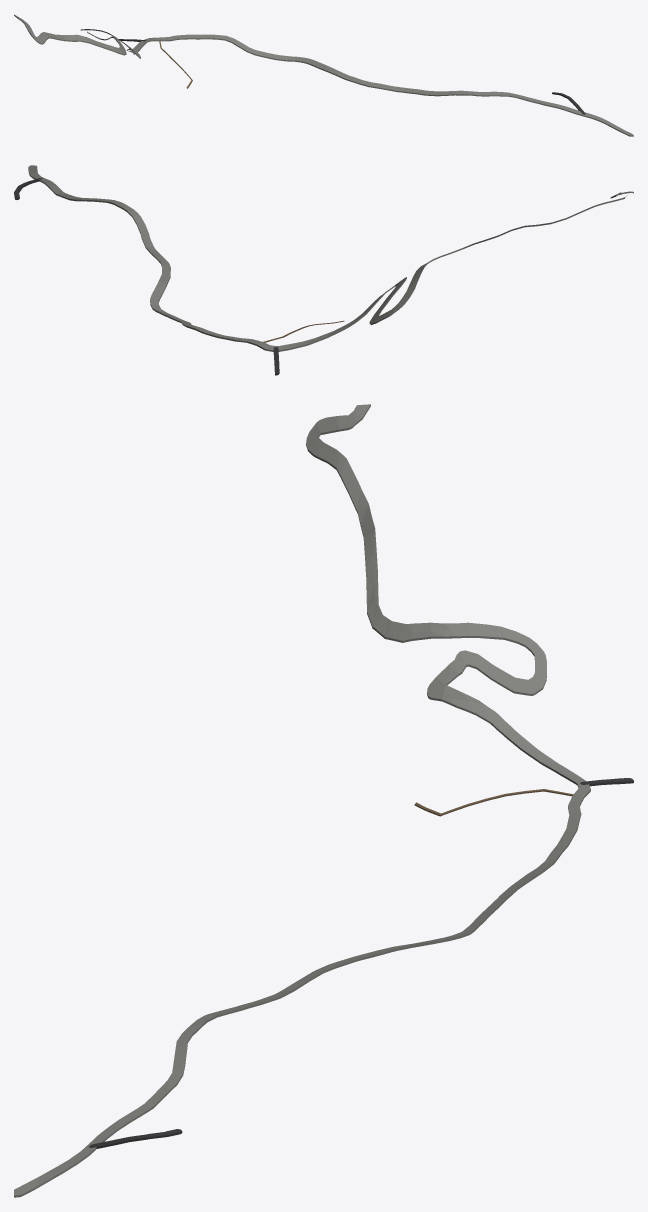
The picture shows the model from 3 angles, top to bottom: view 1: azimuth 30°, elevation 25°; view 2: azimuth 150°, elevation 25°; view 3: azimuth 270°, elevation 25°; orthographic projection. The views are drawn at different scales.
Bounding box in the file's own units: 587 × 191 × 329.
